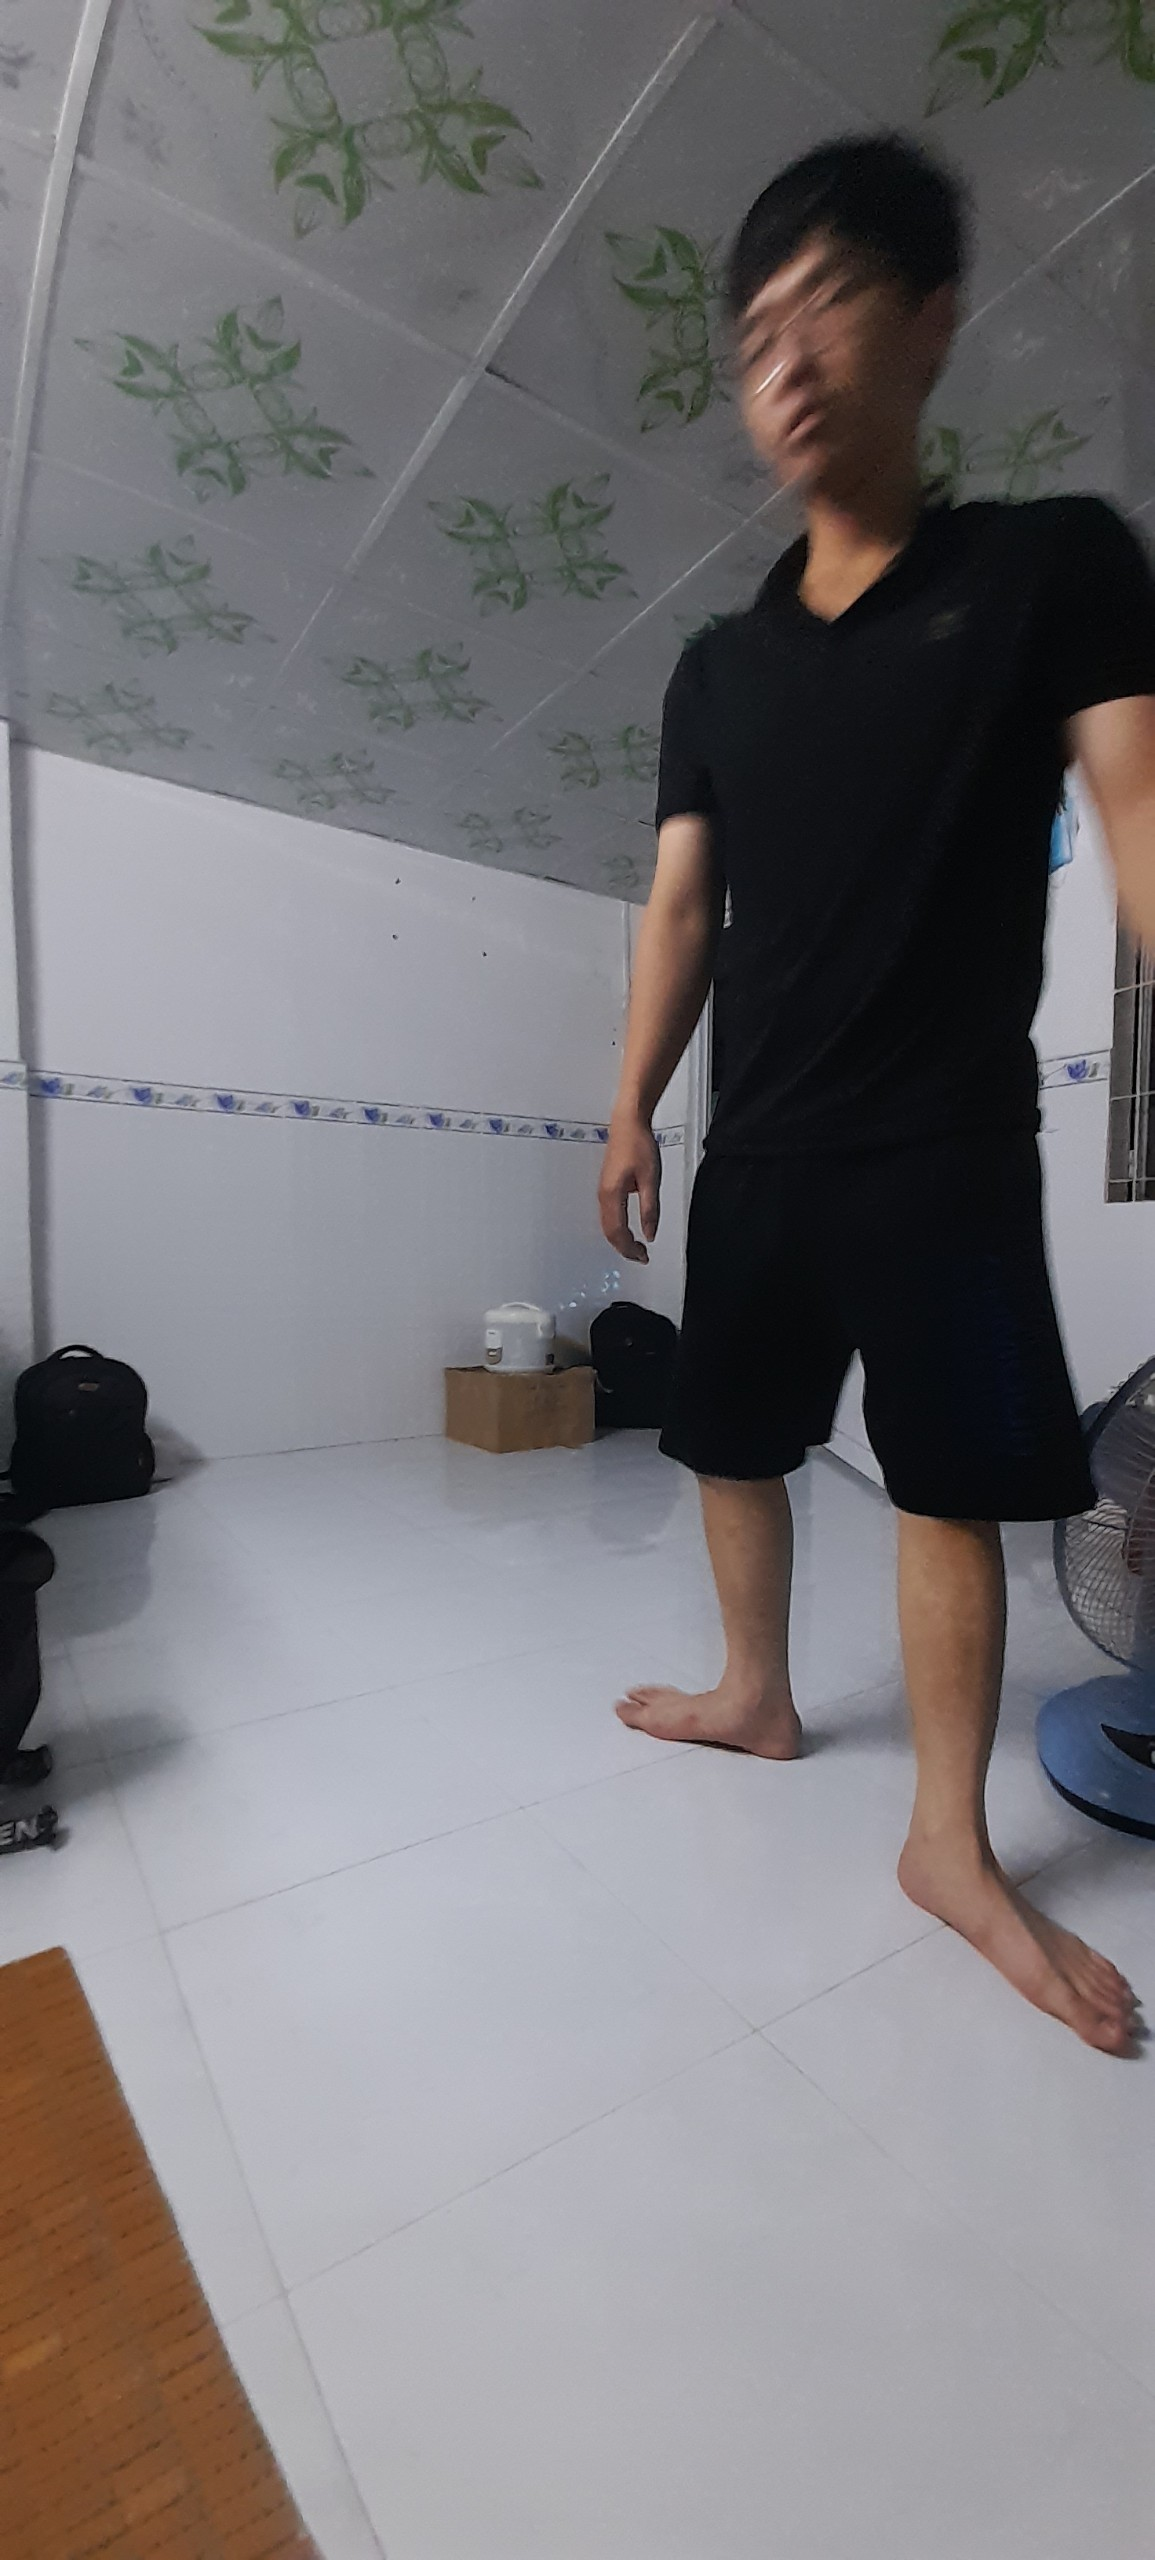person: (646, 139, 1135, 2057)
